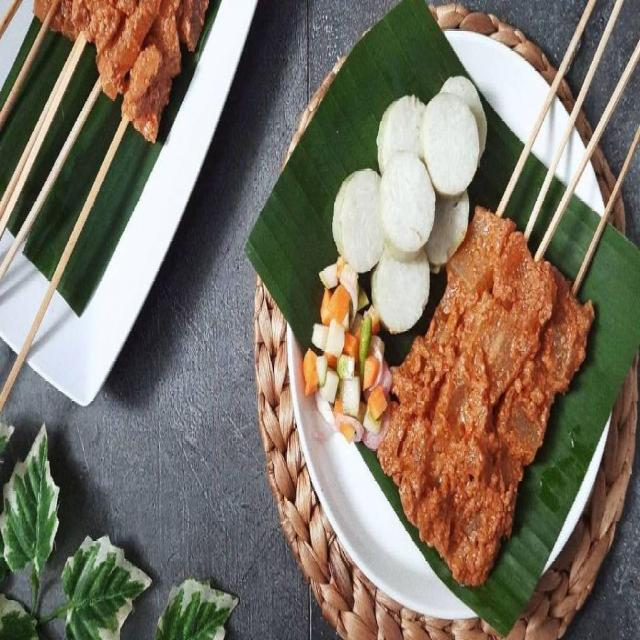Sate: (433, 45, 623, 589)
